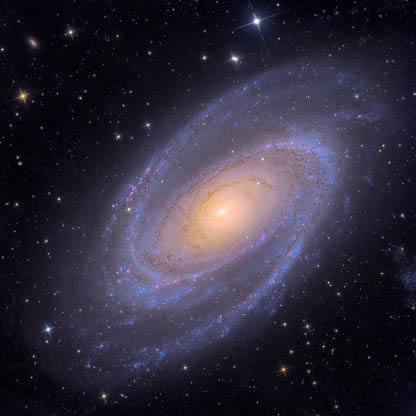Messier 81: (54, 15, 394, 392)
